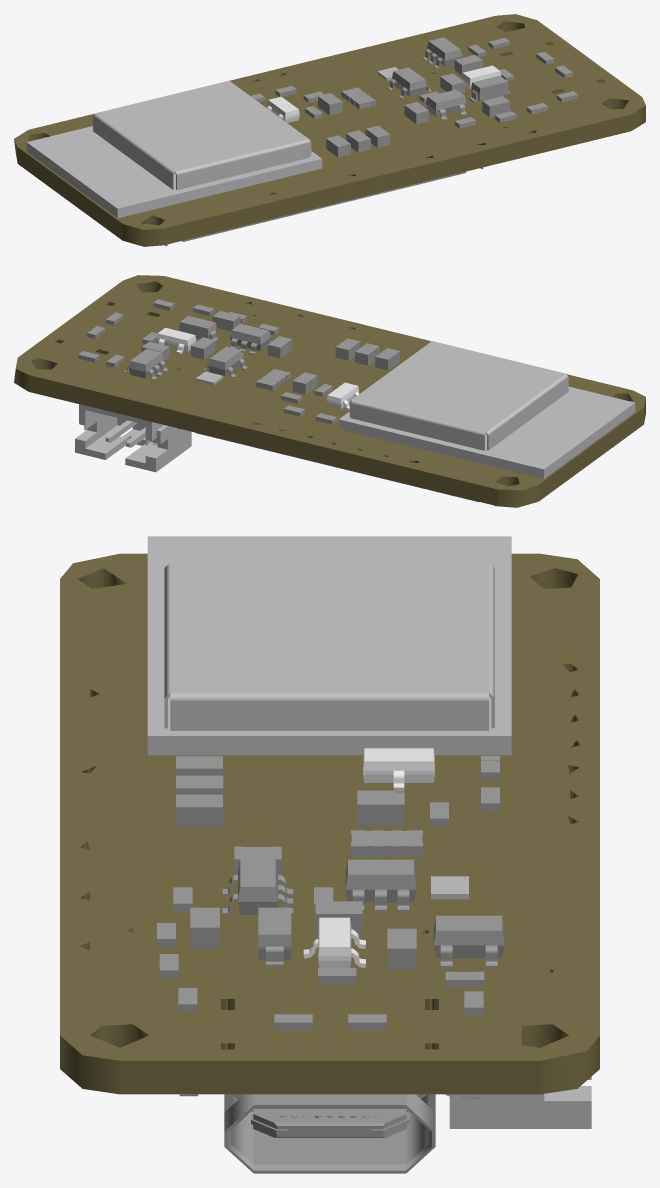
File: ada-5483.glb
The picture shows the model from 3 angles, top to bottom: view 1: azimuth 30°, elevation 25°; view 2: azimuth 150°, elevation 25°; view 3: azimuth 270°, elevation 25°; orthographic projection. The views are drawn at different scales.
Parts seen in each view (by area): view 1: 0.16666666666666666_0.16666666666666666_0.08333333333333333_, 0.5833333333333334_0.5833333333333334_0.5833333333333334_0.8, 0.3333333333333333_0.3333333333333333_0.3333333333333333_0, 0.9166666666666666_0.9166666666666666_0.9166666666666666_0.8; view 2: 0.16666666666666666_0.16666666666666666_0.08333333333333333_, 0.5833333333333334_0.5833333333333334_0.5833333333333334_0.8, 0.3333333333333333_0.3333333333333333_0.3333333333333333_0, 0.9166666666666666_0.9166666666666666_0.9166666666666666_0.8; view 3: 0.16666666666666666_0.16666666666666666_0.08333333333333333_, 0.5833333333333334_0.5833333333333334_0.5833333333333334_0.8, 0.3333333333333333_0.3333333333333333_0.3333333333333333_0, 0.9166666666666666_0.9166666666666666_0.9166666666666666_0.8.
Part boxes in pixels (x1,y1,x2,y2): 0.16666666666666666_0.16666666666666666_0.08333333333333333_: [14, 14, 645, 246]; 0.5833333333333334_0.5833333333333334_0.5833333333333334_0.8: [26, 67, 398, 218]; 0.3333333333333333_0.3333333333333333_0.3333333333333333_0: [164, 37, 577, 246]; 0.9166666666666666_0.9166666666666666_0.9166666666666666_0.8: [267, 65, 501, 122]; 0.16666666666666666_0.16666666666666666_0.08333333333333333_: [14, 275, 645, 507]; 0.5833333333333334_0.5833333333333334_0.5833333333333334_0.8: [75, 341, 635, 478]; 0.3333333333333333_0.3333333333333333_0.3333333333333333_0: [78, 299, 496, 506]; 0.9166666666666666_0.9166666666666666_0.9166666666666666_0.8: [156, 327, 359, 410]; 0.16666666666666666_0.16666666666666666_0.08333333333333333_: [60, 553, 599, 1094]; 0.5833333333333334_0.5833333333333334_0.5833333333333334_0.8: [147, 536, 591, 1128]; 0.3333333333333333_0.3333333333333333_0.3333333333333333_0: [157, 756, 504, 1173]; 0.9166666666666666_0.9166666666666666_0.9166666666666666_0.8: [303, 748, 434, 967].
Bounding box in the file's own units: 5.19 × 0.8917 × 2.29.
